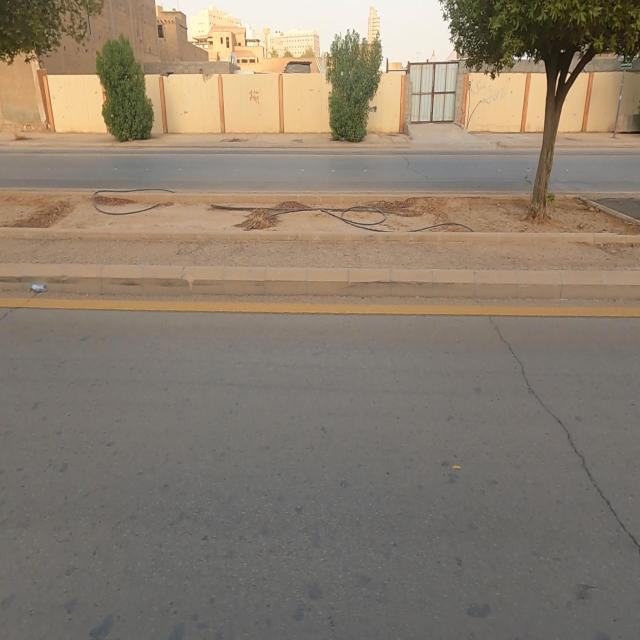Graffiti: (473, 79, 508, 104), (250, 90, 262, 106)
